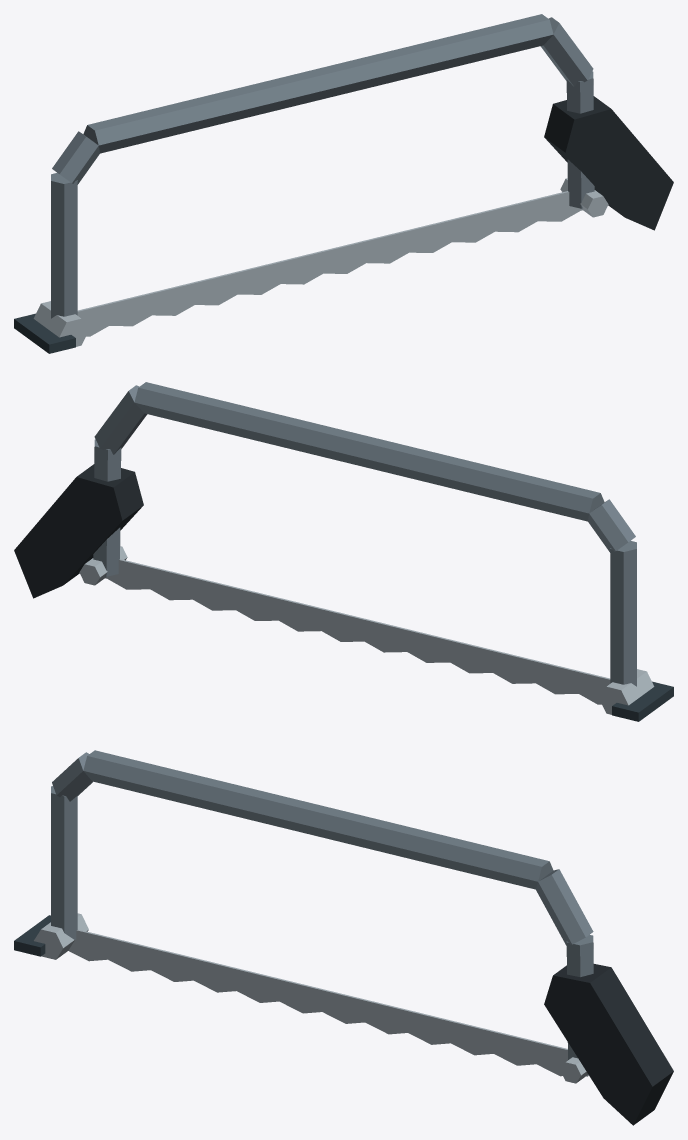
File: b06_hacksaw.glb
The picture shows the model from 3 angles, top to bottom: view 1: azimuth 30°, elevation 25°; view 2: azimuth 150°, elevation 25°; view 3: azimuth 330°, elevation 25°; orthographic projection.
Visible parts, largest first — view 1: b06_hacksaw; view 2: b06_hacksaw; view 3: b06_hacksaw.
Boxes of the visible parts, box(x1,y1,x2,y2) form: b06_hacksaw: box(14, 14, 673, 353); b06_hacksaw: box(14, 382, 673, 721); b06_hacksaw: box(14, 750, 673, 1125).
Size of the model in its own units: 0.425 by 0.1478 by 0.041.
